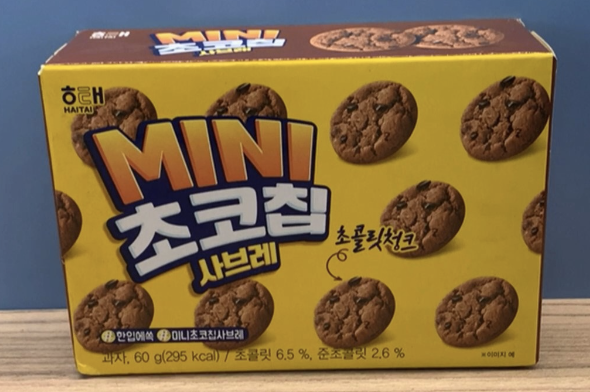cookies_1g-99g: (71, 77, 531, 357)
